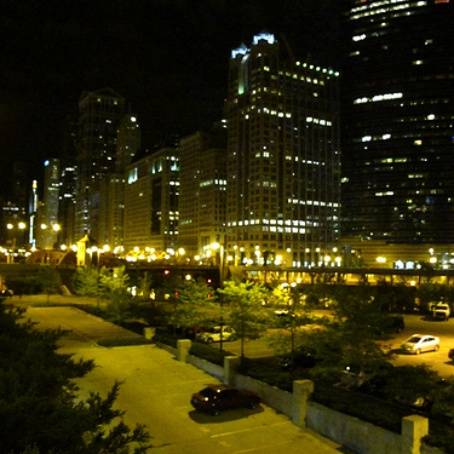building: (221, 35, 349, 267), (342, 1, 454, 264), (119, 130, 224, 265), (71, 90, 144, 247)
car: (183, 381, 267, 414), (397, 330, 445, 356)
sky: (1, 1, 218, 97)
